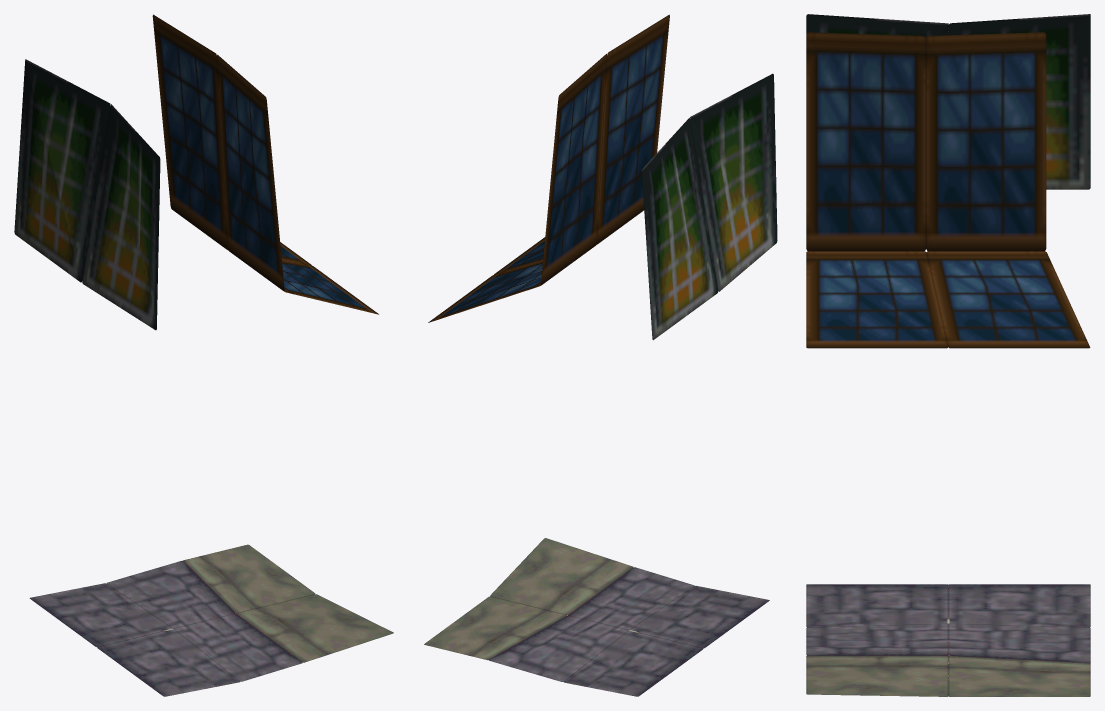
3 renders of one model, left to right at view 1: azimuth 30°, elevation 25°; view 2: azimuth 150°, elevation 25°; view 3: azimuth 270°, elevation 25°, orthographic. The views are drawn at different scales.
Parts seen in each view (by area): view 1: T0I0M999_0; view 2: T0I0M999_0; view 3: T0I0M999_0.
Boxes of the visible parts, x1=… form: T0I0M999_0: x1=14, y1=14, x2=393, y2=696; T0I0M999_0: x1=424, y1=14, x2=777, y2=696; T0I0M999_0: x1=806, y1=14, x2=1090, y2=696.
Size of the model in its own units: 4.19 by 9.44 by 4.
